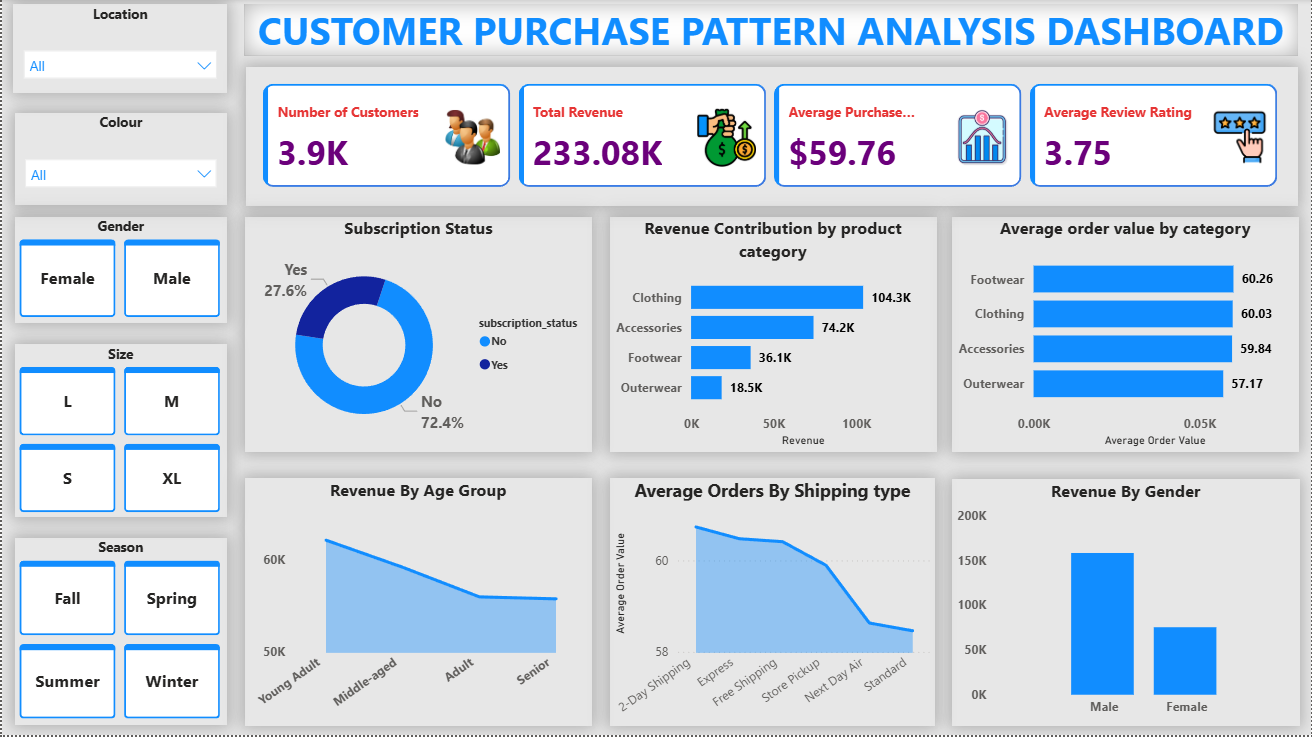

Layout of this report page (visuals, bound fields, positions):
{"tool":"powerbi","page":{"name":"Page 1","canvas":[1280,720],"ordinal":0},"visuals":[{"type":"cardVisual","fields":{"Data":["cleaned Customer Behaviour Data.Number of Customers","cleaned Customer Behaviour Data.Total Revenue","cleaned Customer Behaviour Data.Average Purchase Ammount","cleaned Customer Behaviour Data.Average Review Rating"]},"box":[238,66,1029.6,135.8],"z":0},{"type":"donutChart","title":"Subscription Status","fields":{"Y":["CountNonNull(cleaned Customer Behaviour Data.customer_id)"],"Category":["cleaned Customer Behaviour Data.subscription_status"]},"box":[237.4,212.7,340.3,230.5],"z":1000},{"type":"barChart","title":"Revenue Contribution by product category","fields":{"Category":["cleaned Customer Behaviour Data.category"],"Y":["Sum(cleaned Customer Behaviour Data.purchase_amount)"]},"box":[594.2,212.7,319.7,230.5],"z":2000},{"type":"clusteredBarChart","title":"Average order value by category","fields":{"Category":["cleaned Customer Behaviour Data.category"],"Y":["cleaned Customer Behaviour Data.Average Order Value"]},"box":[929,212.7,338.9,230.5],"z":3000},{"type":"stackedAreaChart","title":"Revenue By Age Group","fields":{"Category":["cleaned Customer Behaviour Data.age_group"],"Y":["Sum(cleaned Customer Behaviour Data.purchase_amount)"]},"box":[237.5,468.8,340,242.5],"z":4000},{"type":"stackedAreaChart","title":"Average Orders By  Shipping type","fields":{"Y":["cleaned Customer Behaviour Data.Average Order Value"],"Category":["cleaned Customer Behaviour Data.shipping_type"]},"box":[593.8,468.8,318.8,242.5],"z":5000},{"type":"columnChart","title":"Revenue By Gender","fields":{"Category":["cleaned Customer Behaviour Data.gender"],"Y":["Sum(cleaned Customer Behaviour Data.purchase_amount)"]},"box":[928.8,470,340,241.2],"z":6000},{"type":"advancedSlicerVisual","title":"Season","fields":{"Values":["cleaned Customer Behaviour Data.season"]},"box":[12.2,527,207.9,183.4],"z":7000},{"type":"advancedSlicerVisual","title":"Size","fields":{"Values":["cleaned Customer Behaviour Data.size"]},"box":[12.2,337.5,207.9,170],"z":8000},{"type":"advancedSlicerVisual","title":"Gender","fields":{"Values":["cleaned Customer Behaviour Data.gender"]},"box":[12.2,212.8,207.9,103.9],"z":9000},{"type":"slicer","title":"Colour","fields":{"Values":["cleaned Customer Behaviour Data.color"]},"box":[12.2,111.3,207.9,90.5],"z":10000},{"type":"slicer","title":"Location","fields":{"Values":["cleaned Customer Behaviour Data.location"]},"box":[11,4.9,209.1,86.8],"z":11000},{"type":"textbox","title":"CUSTOMER PURCHASE PATTERN ANALYSIS DASHBOARD","box":[237.1,4.3,1030,50],"z":12000}]}

Visuals, with their boxes in screenshot pixels (x1, y1, x2, y2), scaled from the page's 1280x720 canvas onto the 1312x737 screenshot:
cardVisual - cleaned Customer Behaviour Data.Number of Customers x cleaned Customer Behaviour Data.Total Revenue: box=[244, 68, 1299, 207]
"Subscription Status" donutChart: box=[243, 218, 592, 454]
"Revenue Contribution by product category" barChart: box=[609, 218, 937, 454]
"Average order value by category" clusteredBarChart: box=[952, 218, 1300, 454]
"Revenue By Age Group" stackedAreaChart: box=[243, 480, 592, 728]
"Average Orders By  Shipping type" stackedAreaChart: box=[609, 480, 935, 728]
"Revenue By Gender" columnChart: box=[952, 481, 1301, 728]
"Season" advancedSlicerVisual: box=[13, 539, 226, 727]
"Size" advancedSlicerVisual: box=[13, 345, 226, 519]
"Gender" advancedSlicerVisual: box=[13, 218, 226, 324]
"Colour" slicer: box=[13, 114, 226, 207]
"Location" slicer: box=[11, 5, 226, 94]
"CUSTOMER PURCHASE PATTERN ANALYSIS DASHBOARD" textbox: box=[243, 4, 1299, 56]
